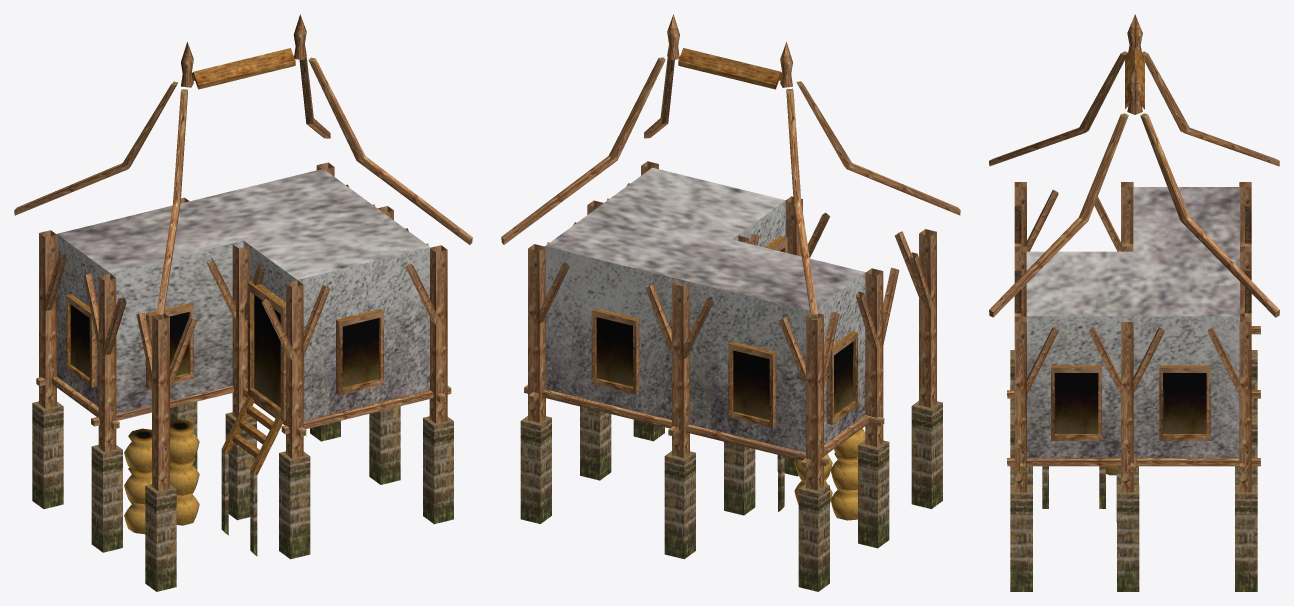
Rendered from house_04.dae.
3 views of the same model, side by side, from view 1: azimuth 30°, elevation 25°; view 2: azimuth 150°, elevation 25°; view 3: azimuth 270°, elevation 25° (orthographic).
Parts seen in each view (by area): view 1: house_4; view 2: house_4; view 3: house_4.
Part boxes in pixels (box(x1,y1,x2,y2)): house_4: box(14, 14, 472, 591); house_4: box(501, 14, 960, 591); house_4: box(989, 14, 1279, 591).
Bounding box in the file's own units: 12.3 × 9.85 × 18.07.
